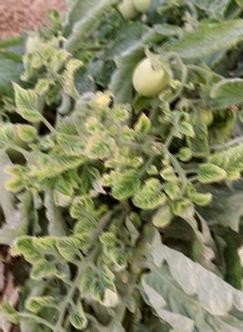Tomato leaf yellow virus: (16, 149, 74, 189), (123, 181, 170, 216), (7, 81, 43, 124), (93, 263, 121, 316), (79, 131, 124, 161), (216, 137, 243, 186), (109, 169, 146, 204), (6, 233, 47, 264), (66, 195, 98, 234), (191, 159, 223, 189), (54, 236, 83, 258), (0, 120, 15, 157)
